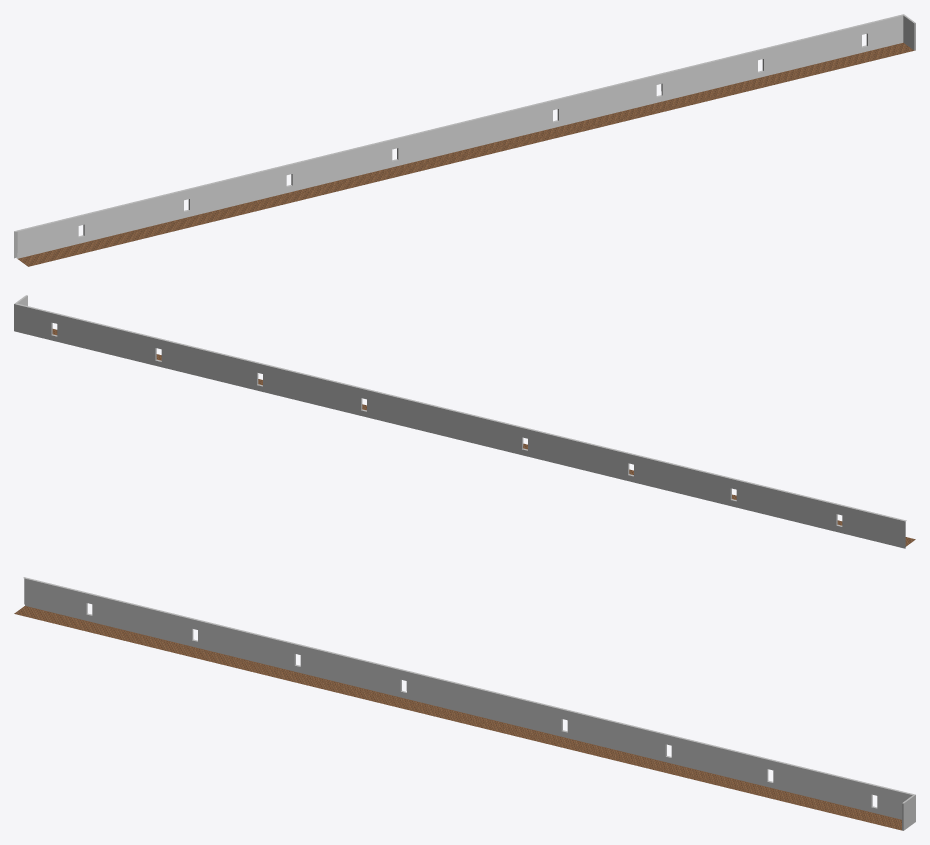
The model's file is Corridor2-4R.fbx.
The picture shows the model from 3 angles, top to bottom: view 1: azimuth 30°, elevation 25°; view 2: azimuth 150°, elevation 25°; view 3: azimuth 330°, elevation 25°; orthographic projection.
Parts seen in each view (by area): view 1: Corridor.010; view 2: Corridor.010; view 3: Corridor.010.
Boxes of the visible parts, x1,y1,x2,y2 form: Corridor.010: (14, 14, 915, 266); Corridor.010: (14, 295, 915, 548); Corridor.010: (14, 577, 915, 830).
Size of the model in its own units: 23300 by 681 by 560.
